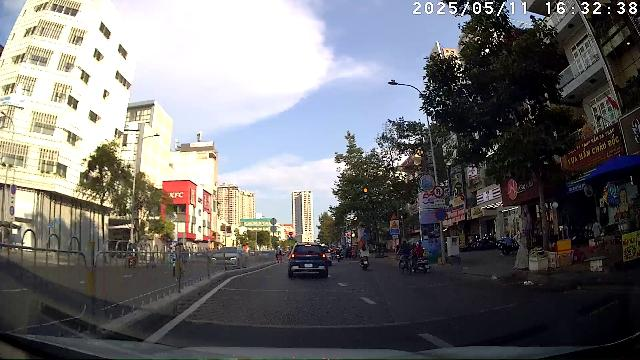124b-cam-oto-quay-dau-xe: (433, 185, 445, 198)
